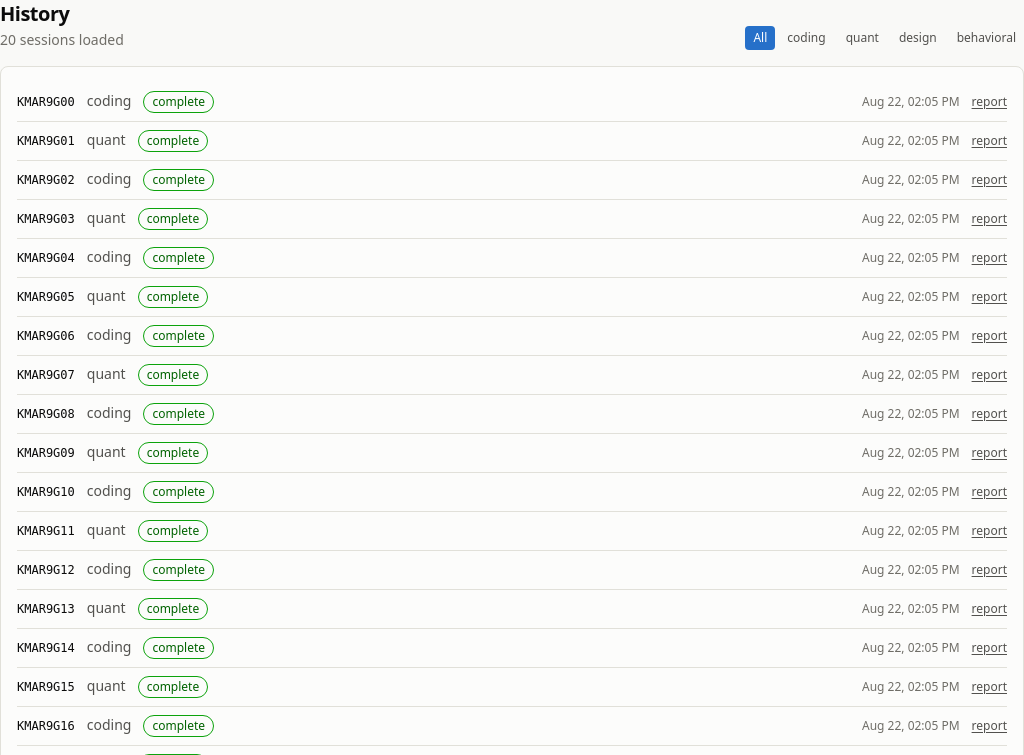
Test: history › filters by mode over everything fetched, not just the newest page
Expected: the text "20 sessions loaded" is shown, [0, 30, 124, 50]
Click the button "quant". click: {"x": 862, "y": 38}
box: [838, 26, 887, 50]
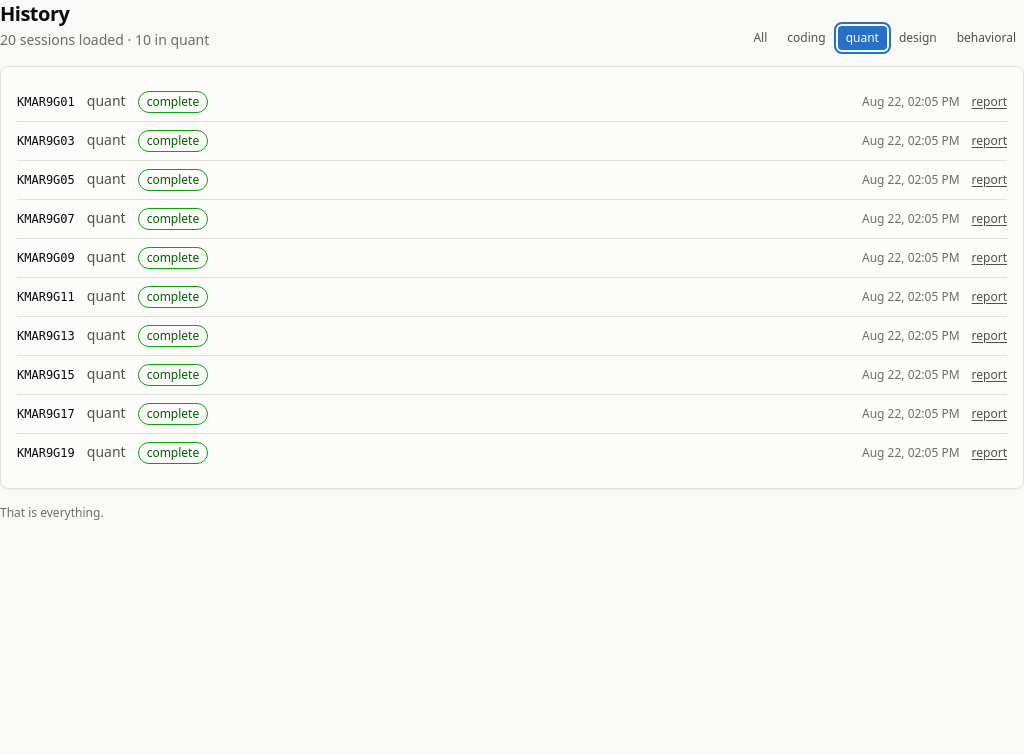
Expected: the text "20 sessions loaded · 10 in quant" is shown, [0, 30, 209, 50]
